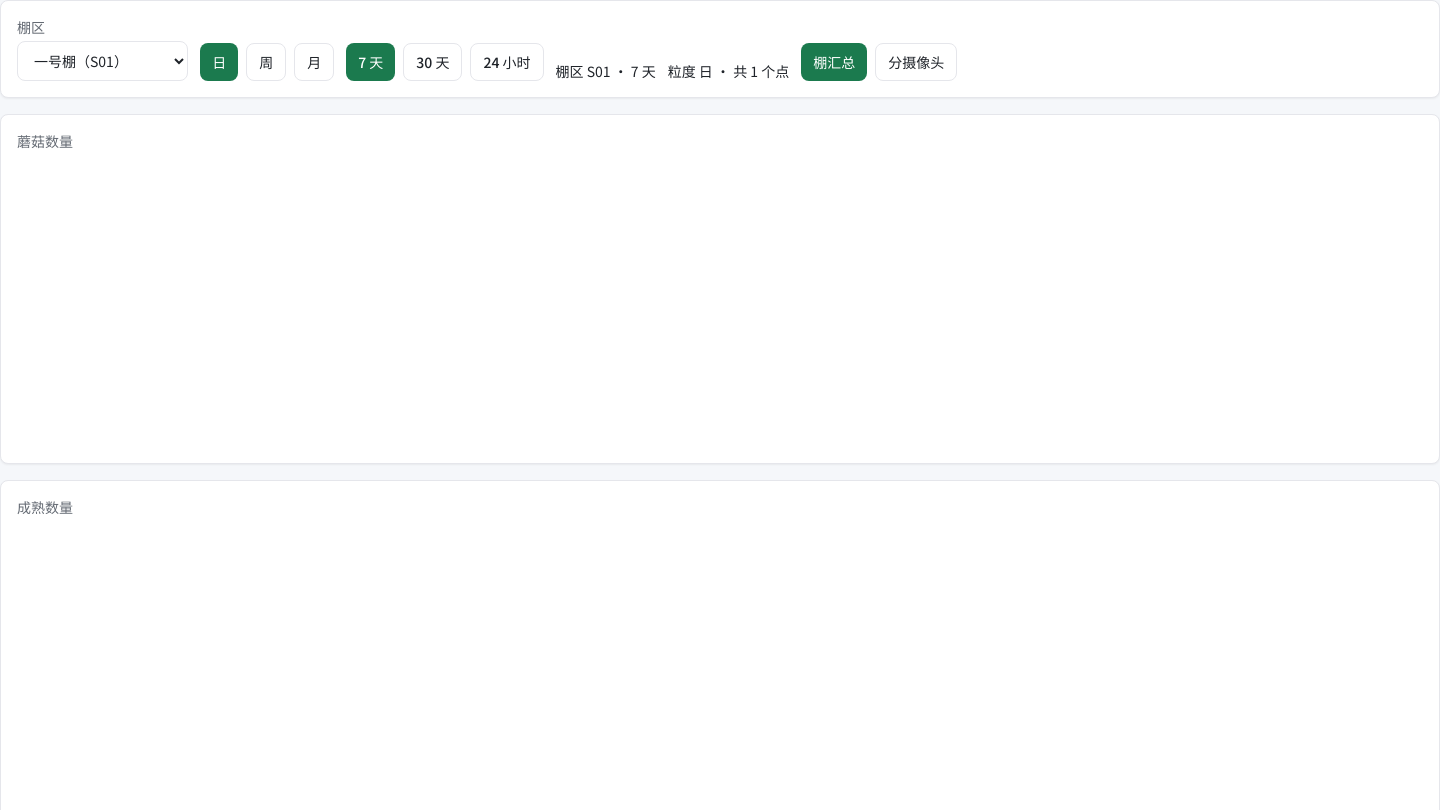
Test case: GrowthTrendsView › requests hour buckets from the 24h control
Click the button "24 小时": (507,62) left=470, top=43, right=544, bottom=81
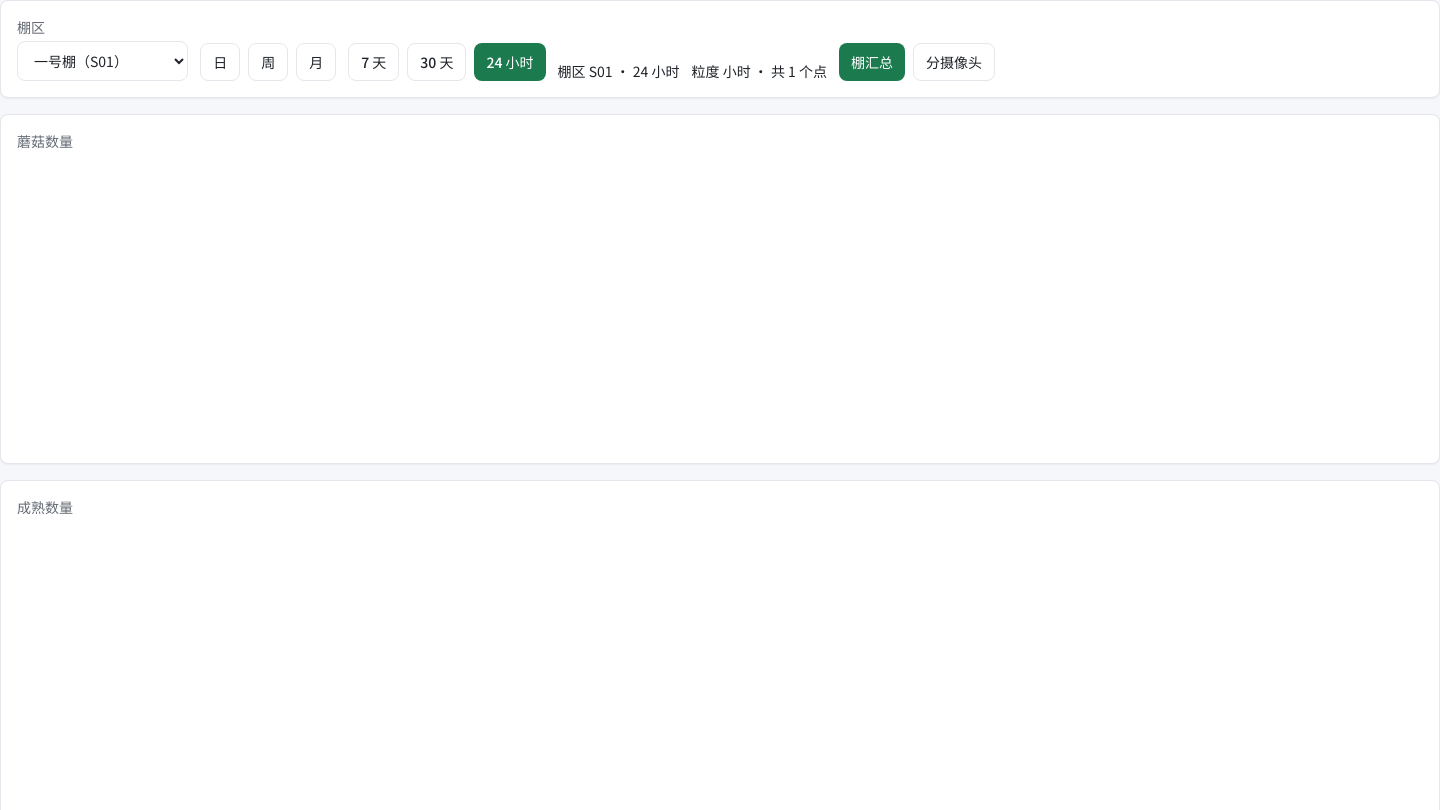
Result: the text "棚区 S01 · 24 小时" is shown at left=558, top=61, right=680, bottom=81
